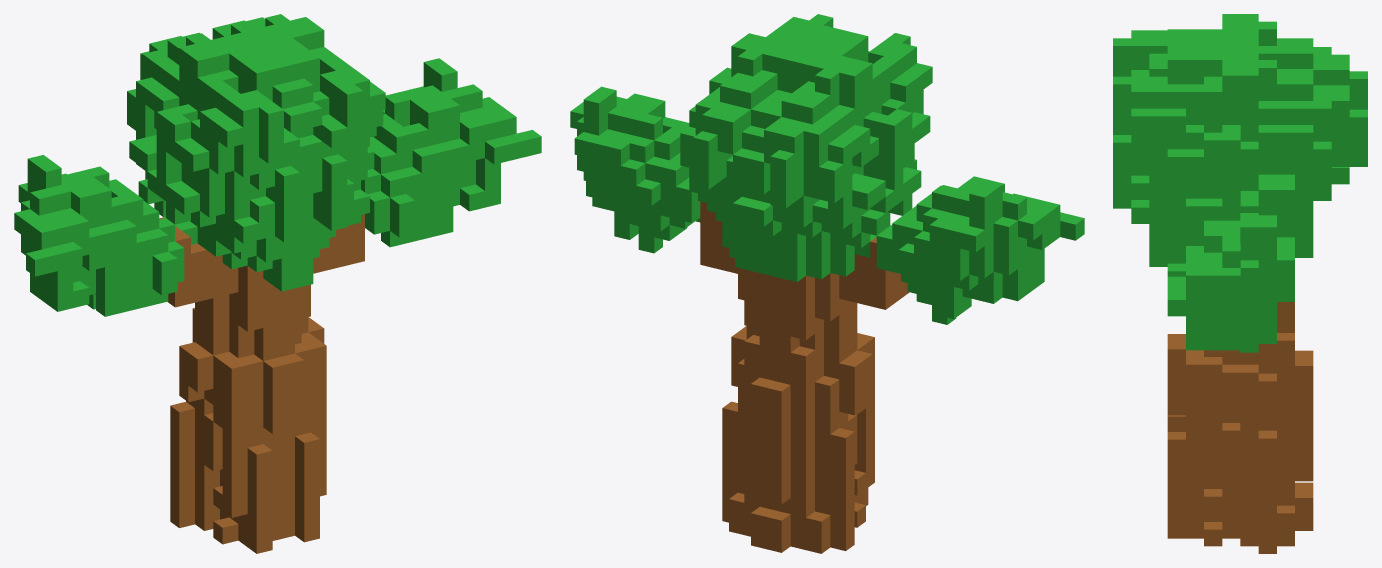
Rendered from arbol.obj.
3 views of the same model, side by side, from view 1: azimuth 30°, elevation 25°; view 2: azimuth 150°, elevation 25°; view 3: azimuth 270°, elevation 25° (orthographic). The views are drawn at different scales.
Bounding box in the file's own units: 3.2 × 2.9 × 1.4.
Materials: 1 (1 with a texture image).
